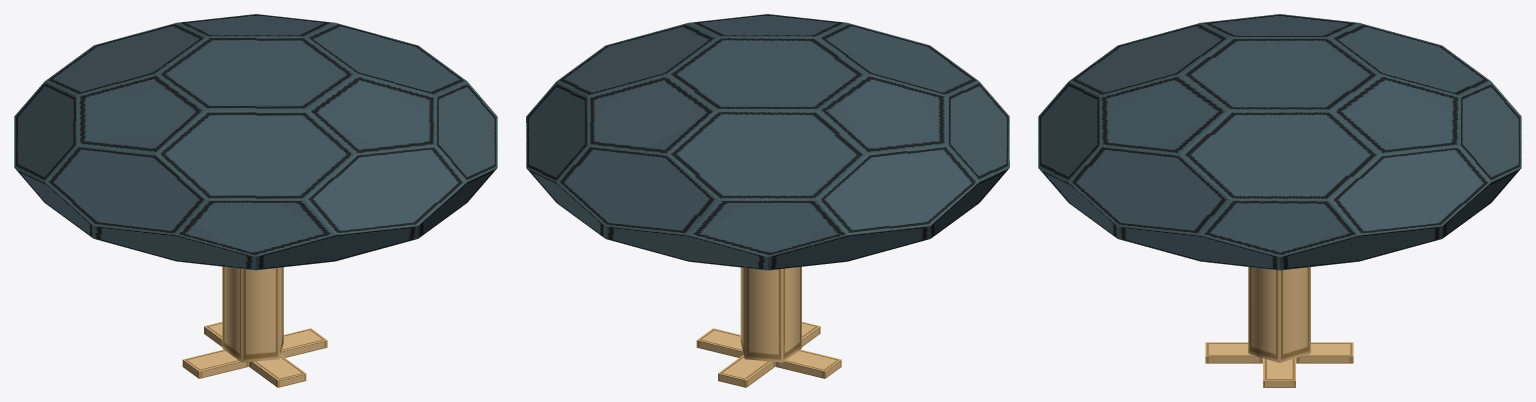
Rendered from Tree020.FBX.
3 renders of one model, left to right at view 1: azimuth 30°, elevation 25°; view 2: azimuth 150°, elevation 25°; view 3: azimuth 270°, elevation 25°, orthographic.
Parts seen in each view (by area): view 1: tree020; view 2: tree020; view 3: tree020.
Boxes of the visible parts, box(x1,y1,x2,y2) form: tree020: box(14, 14, 497, 387); tree020: box(526, 14, 1009, 387); tree020: box(1038, 14, 1521, 387).
Size of the model in its own units: 296 by 190 by 293.
Materials: 1 (1 with a texture image).
